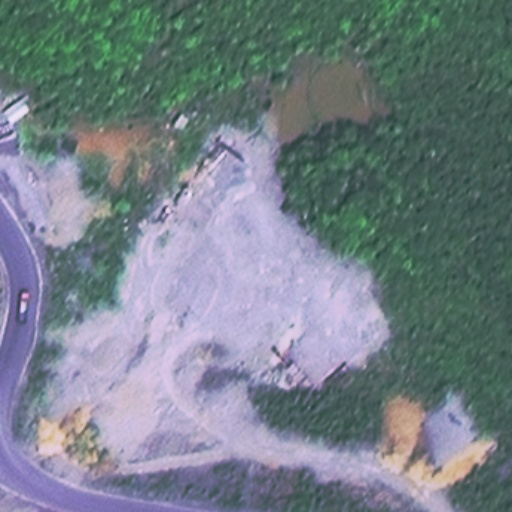landslide: (70, 119, 152, 178), (383, 392, 427, 467), (441, 444, 498, 483)
